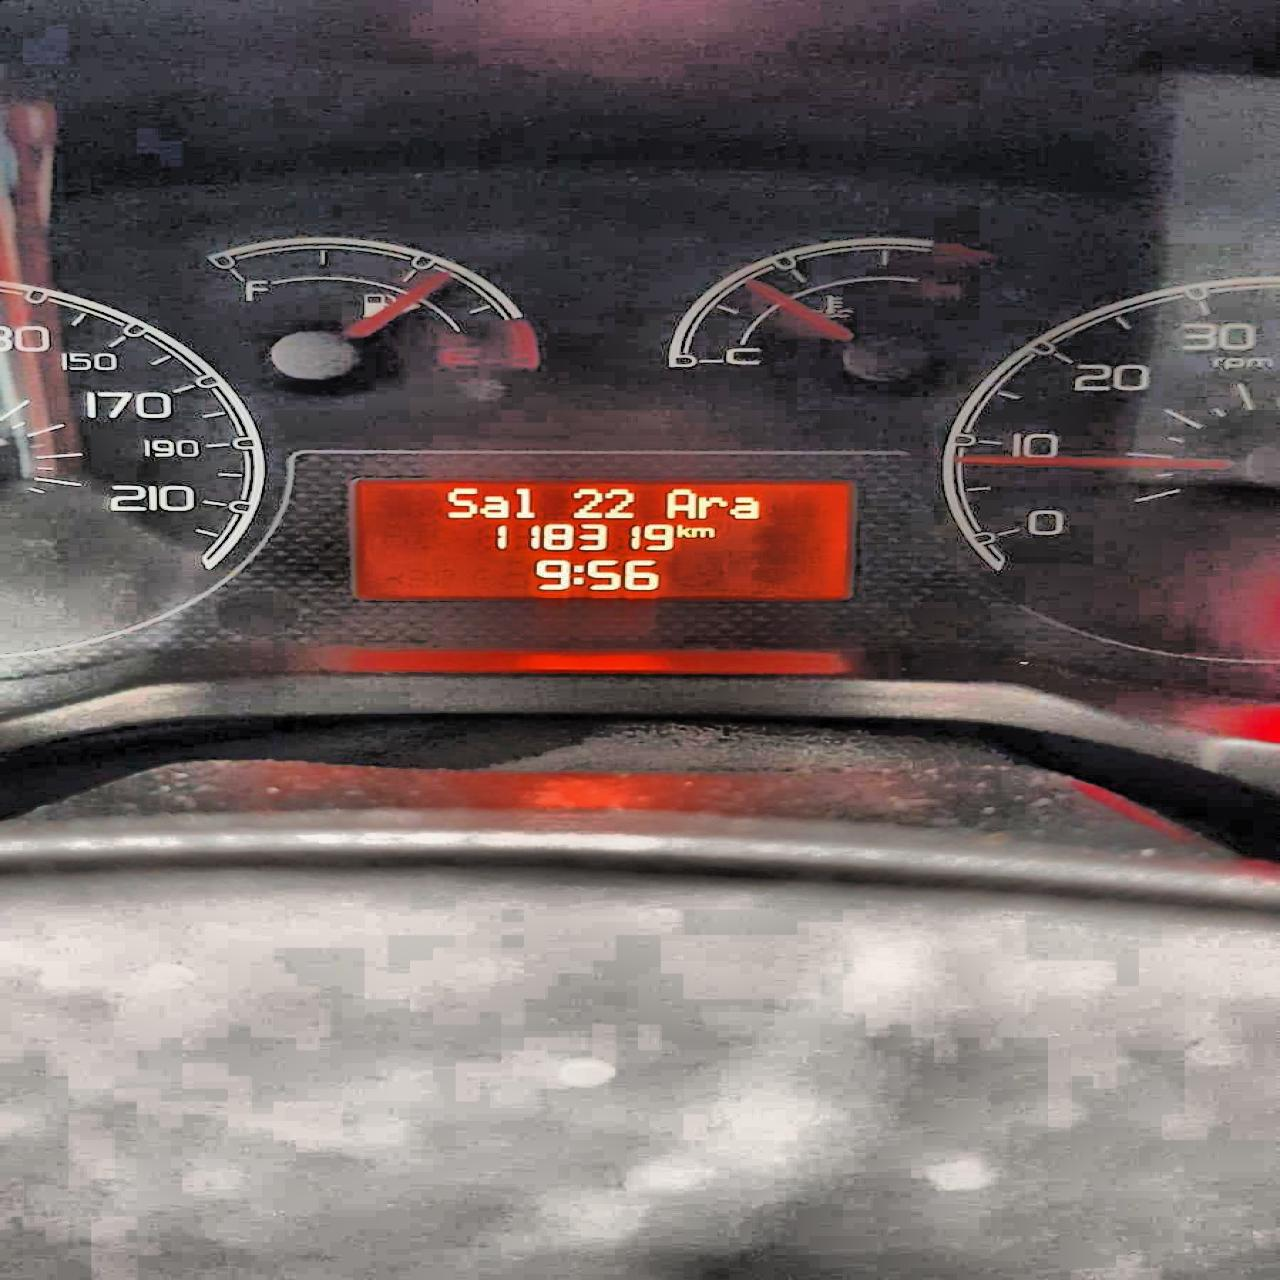1: (491, 522, 509, 556), (524, 520, 542, 553), (626, 523, 640, 552)
2: (570, 484, 602, 519), (604, 485, 636, 519)
3: (578, 519, 608, 553)
5: (586, 557, 620, 592)
6: (624, 557, 662, 592)
8: (543, 522, 572, 551)
9: (535, 559, 571, 591), (642, 522, 672, 553)
X: (443, 485, 478, 520), (663, 486, 696, 518), (730, 493, 763, 520), (478, 493, 510, 519), (515, 485, 538, 519), (697, 493, 724, 519), (690, 525, 717, 538), (571, 561, 584, 586), (675, 523, 690, 538)
odometer: (346, 476, 857, 601)
